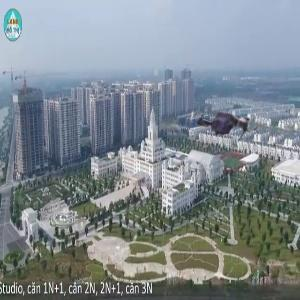drone: (187, 81, 265, 159)
